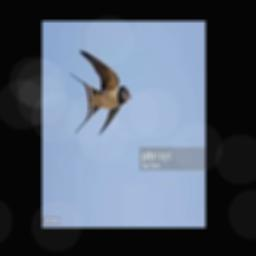Swallow: (70, 49, 132, 135)
